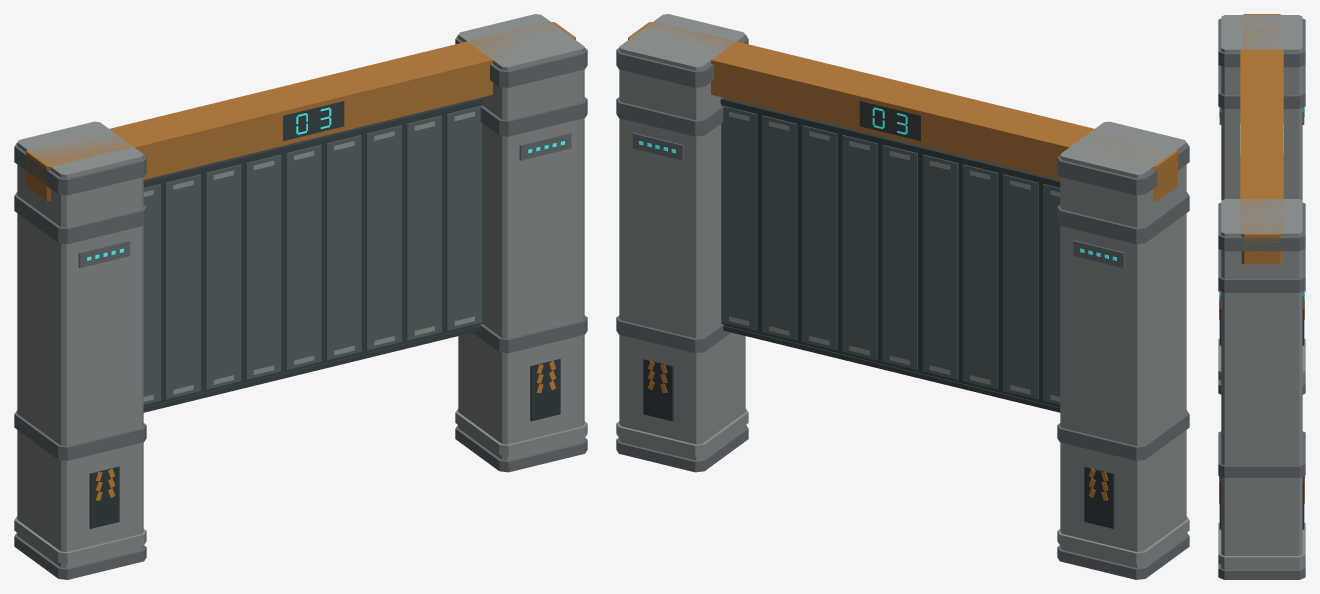
File: e03-pillar-frame.glb
The picture shows the model from 3 angles, left to right: view 1: azimuth 30°, elevation 25°; view 2: azimuth 150°, elevation 25°; view 3: azimuth 270°, elevation 25°; orthographic projection. The views are drawn at different scales.
Parts seen in each view (by area): view 1: Suspended opaque screen, Post -4, Post +4, Copper ochre head rail; view 2: Suspended opaque screen, Post -4, Post +4, Copper ochre head rail; view 3: Post +4, Post -4, Copper ochre head rail.
Part boxes in pixels (bbox=[...]): Suspended opaque screen: bbox=[143, 97, 483, 412]; Post -4: bbox=[14, 121, 146, 579]; Post +4: bbox=[455, 14, 587, 472]; Copper ochre head rail: bbox=[26, 21, 575, 201]; Suspended opaque screen: bbox=[720, 97, 1060, 412]; Post -4: bbox=[1057, 121, 1189, 579]; Post +4: bbox=[616, 14, 748, 472]; Copper ochre head rail: bbox=[628, 22, 1177, 201]; Post +4: bbox=[1218, 199, 1305, 579]; Post -4: bbox=[1218, 15, 1305, 394]; Copper ochre head rail: bbox=[1240, 14, 1283, 264].
Bounding box in the file's own units: 9.6 × 7 × 1.6.
